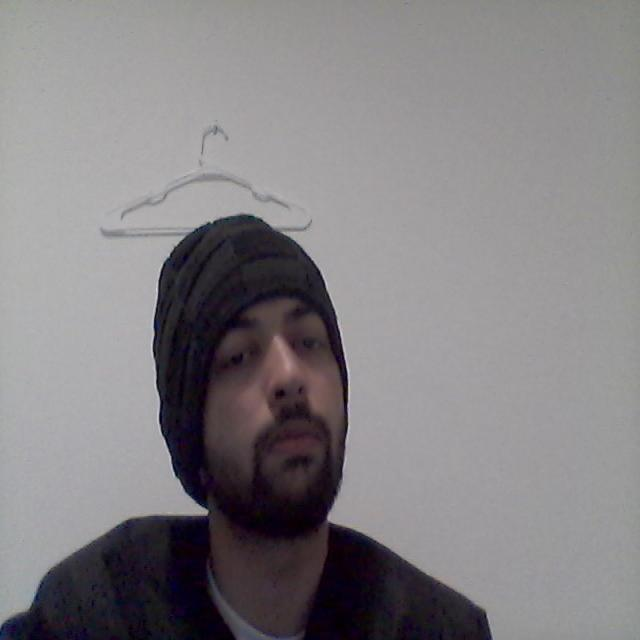cap: (144, 189, 354, 443)
